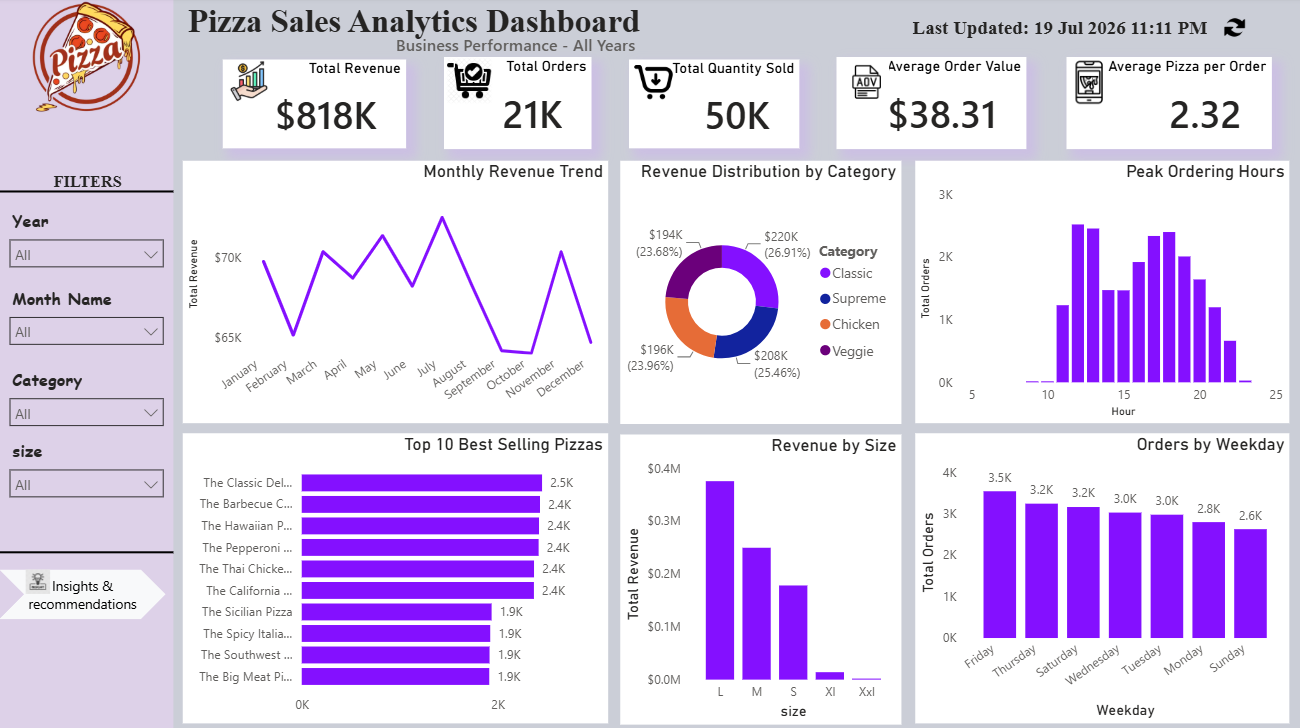

The page's visual inventory and layout, read from the dashboard file:
{"tool":"powerbi","page":{"name":"Sales Dashboard","canvas":[1280,720],"ordinal":0},"visuals":[{"type":"textbox","box":[171.8,0,471.2,57.7],"z":0},{"type":"cardVisual","fields":{"Data":["measuress.Dashboard Title"]},"box":[349.7,2.5,315.3,85.9],"z":1000},{"type":"shape","box":[0,0,171.5,720.4],"z":2000},{"type":"image","box":[0,0,171.2,118.8],"z":3000},{"type":"slicer","fields":{"Values":["orders.Month Name"]},"box":[0,279.9,171.5,64.5],"z":4000},{"type":"slicer","fields":{"Values":["pizzas.size"]},"box":[0,429.5,171.5,65.9],"z":5000},{"type":"slicer","fields":{"Values":["pizza_types.Category"]},"box":[0,359.5,171.5,70],"z":6000},{"type":"slicer","fields":{"Values":["orders.Year"]},"box":[0,203.1,171.5,65.9],"z":7000},{"type":"shape","box":[0,144.1,171.5,94.7],"z":8000},{"type":"textbox","box":[41.2,167.4,90.6,35.7],"z":9000},{"type":"shape","box":[0,562.5,163.8,48.8],"z":10000},{"type":"shape","box":[0,538.6,171.4,12.9],"z":11000},{"type":"image","box":[9,562,59,24],"z":12000},{"type":"cardVisual","title":"Total Revenue","fields":{"Data":["measuress.Total Revenue"]},"box":[220,61.2,180,87.5],"z":13000},{"type":"image","box":[208.8,62.5,73.8,40],"z":14000},{"type":"cardVisual","title":"Total Orders","fields":{"Data":["measuress.Total Orders"]},"box":[436.2,58.8,145,90],"z":15000},{"type":"cardVisual","title":"Total Quantity Sold","fields":{"Data":["measuress.Total Quantity Sold"]},"box":[618.8,61.2,167.5,87.5],"z":16000},{"type":"cardVisual","title":"Average Pizza per Order","fields":{"Data":["measuress.Average Pizzas per Order"]},"box":[1047.5,58.8,201.2,90],"z":17000},{"type":"cardVisual","title":"Average Order Value","fields":{"Data":["measuress.Average Order Value"]},"box":[822.5,58.8,186.2,90],"z":18000},{"type":"image","box":[613.8,61.2,58.8,43.8],"z":19000},{"type":"image","box":[432.5,58.8,58.8,46.2],"z":20000},{"type":"image","box":[1040,61.2,58.8,45],"z":21000},{"type":"image","box":[823.8,61.2,56.2,43.8],"z":22000},{"type":"lineChart","title":"Monthly Revenue Trend","fields":{"Y":["measuress.Total Revenue"],"Category":["orders.date.Variation.Date Hierarchy.Month"]},"box":[180,161.2,417.5,257.5],"z":23000},{"type":"clusteredColumnChart","title":"Peak Ordering Hours","fields":{"Category":["orders.Hour"],"Y":["measuress.Total Orders"]},"box":[900,161.2,367.5,257.5],"z":24000},{"type":"clusteredBarChart","title":"Top 10 Best Selling Pizzas","fields":{"Category":["pizza_types.Name"],"Y":["measuress.Total Quantity Sold"]},"box":[180,428.8,417.5,285],"z":25000},{"type":"donutChart","title":"Revenue Distribution by Category","fields":{"Category":["pizza_types.Category"],"Y":["measuress.Total Revenue"]},"box":[610,161,276,258],"z":26000},{"type":"columnChart","title":"Revenue by Size","fields":{"Category":["pizzas.size"],"Y":["measuress.Total Revenue"]},"box":[610,429.2,276.2,284.6],"z":27000},{"type":"columnChart","title":"Orders by Weekday","fields":{"Y":["measuress.Total Orders"],"Category":["orders.Weekday"]},"box":[900,428.8,367.5,285],"z":28000},{"type":"cardVisual","fields":{"Data":["measuress.Last Refresh"]},"box":[823.3,0,436.8,58.9],"z":29000},{"type":"image","box":[1186.5,14.7,52.8,30.7],"z":30000}]}

Visuals, with their boxes in screenshot pixels (x1, y1, x2, y2), scaled from the page's 1280x720 canvas onto the 1300x728 screenshot:
textbox: rect(174, 0, 653, 58)
cardVisual - measuress.Dashboard Title: rect(355, 3, 675, 89)
shape: rect(0, 0, 174, 727)
image: rect(0, 0, 174, 120)
slicer - orders.Month Name: rect(0, 283, 174, 348)
slicer - pizzas.size: rect(0, 434, 174, 501)
slicer - pizza_types.Category: rect(0, 363, 174, 434)
slicer - orders.Year: rect(0, 205, 174, 272)
shape: rect(0, 146, 174, 241)
textbox: rect(42, 169, 134, 205)
shape: rect(0, 569, 166, 618)
shape: rect(0, 545, 174, 558)
image: rect(9, 568, 69, 593)
"Total Revenue" cardVisual: rect(223, 62, 406, 150)
image: rect(212, 63, 287, 104)
"Total Orders" cardVisual: rect(443, 59, 590, 150)
"Total Quantity Sold" cardVisual: rect(628, 62, 799, 150)
"Average Pizza per Order" cardVisual: rect(1064, 59, 1268, 150)
"Average Order Value" cardVisual: rect(835, 59, 1024, 150)
image: rect(623, 62, 683, 106)
image: rect(439, 59, 499, 106)
image: rect(1056, 62, 1116, 107)
image: rect(837, 62, 894, 106)
"Monthly Revenue Trend" lineChart: rect(183, 163, 607, 423)
"Peak Ordering Hours" clusteredColumnChart: rect(914, 163, 1287, 423)
"Top 10 Best Selling Pizzas" clusteredBarChart: rect(183, 434, 607, 722)
"Revenue Distribution by Category" donutChart: rect(620, 163, 900, 424)
"Revenue by Size" columnChart: rect(620, 434, 900, 722)
"Orders by Weekday" columnChart: rect(914, 434, 1287, 722)
cardVisual - measuress.Last Refresh: rect(836, 0, 1280, 60)
image: rect(1205, 15, 1259, 46)
